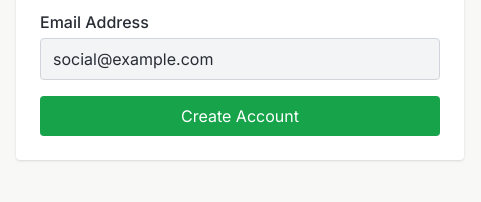
it: SocialSignUp › submits form successfully
The width and height of the screenshot is (481, 202).
Click the button "Create Account": (240, 116) 40,96 -> 440,136
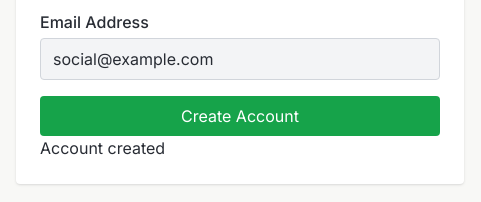
Result: the text "Account created" is shown at 40,138 -> 165,158
